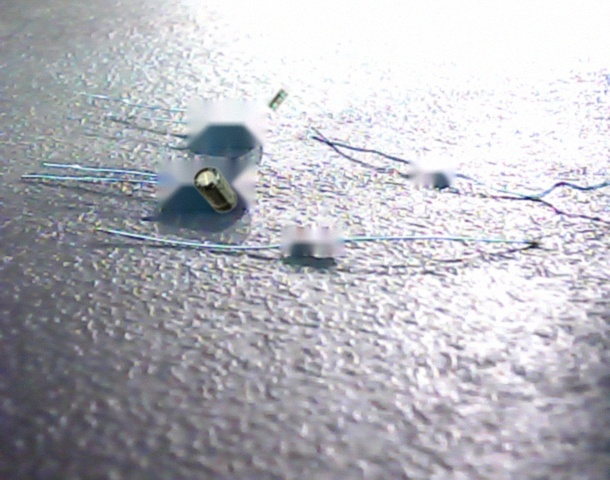capacitor: (194, 167, 237, 212)
resistor: (268, 89, 288, 111)
